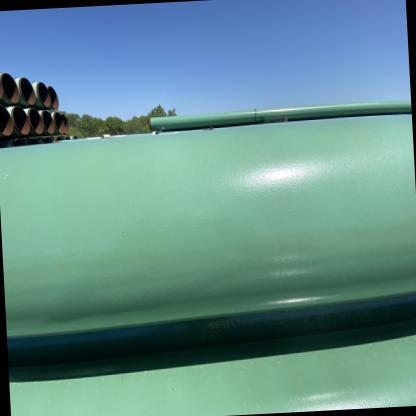clean: (245, 164, 306, 210)
